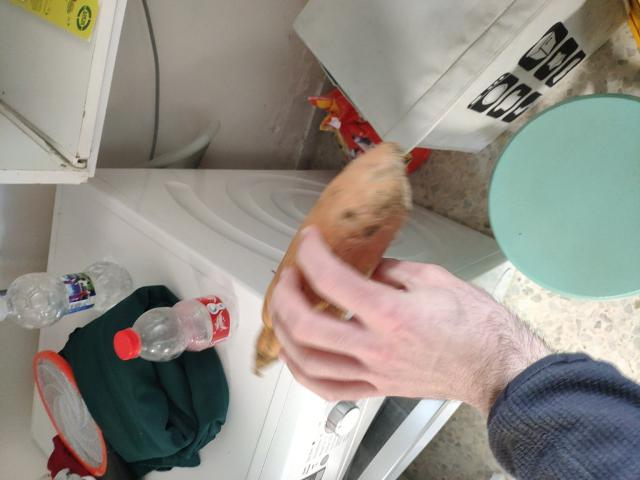sweet_potato: (261, 152, 411, 384)
